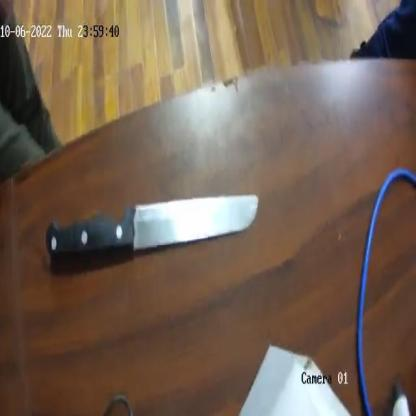Knife: (43, 186, 258, 260)
